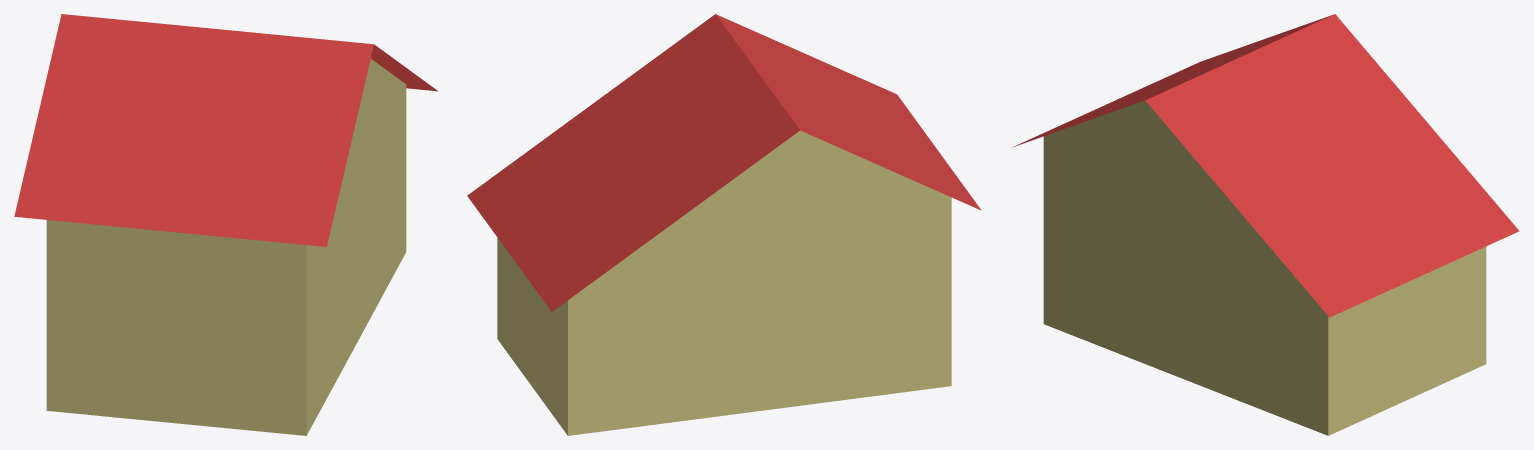
3 renders of one model, left to right at view 1: azimuth 30°, elevation 25°; view 2: azimuth 150°, elevation 25°; view 3: azimuth 270°, elevation 25°, orthographic. The views are drawn at different scales.
Size of the model in its own units: 15.97 by 16.22 by 9.74.
